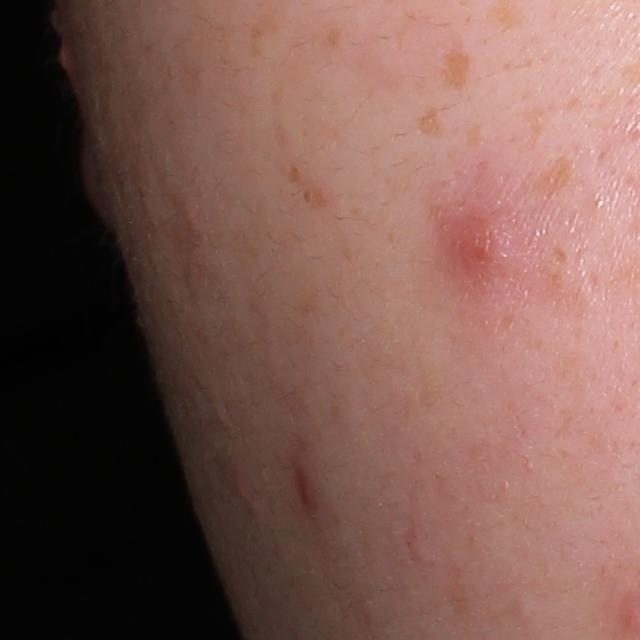comedo: (511, 597, 536, 621)
melasma: (533, 154, 578, 201), (415, 106, 457, 146), (441, 48, 470, 90), (323, 22, 345, 53)
papule: (441, 216, 508, 284), (295, 465, 326, 512), (229, 467, 258, 508)
